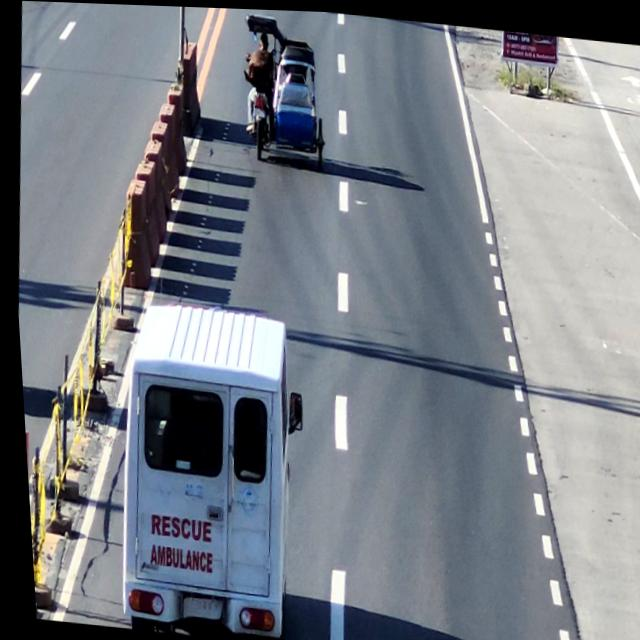Car: (98, 296, 301, 640)
Tricycle: (237, 11, 325, 156)
